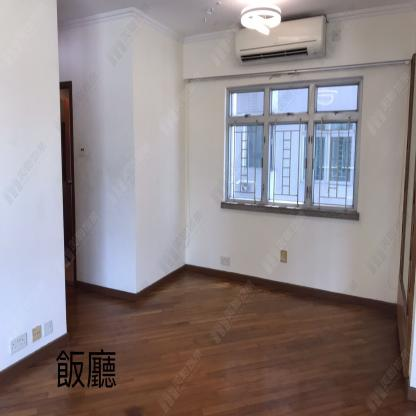AC: (235, 15, 327, 67)
